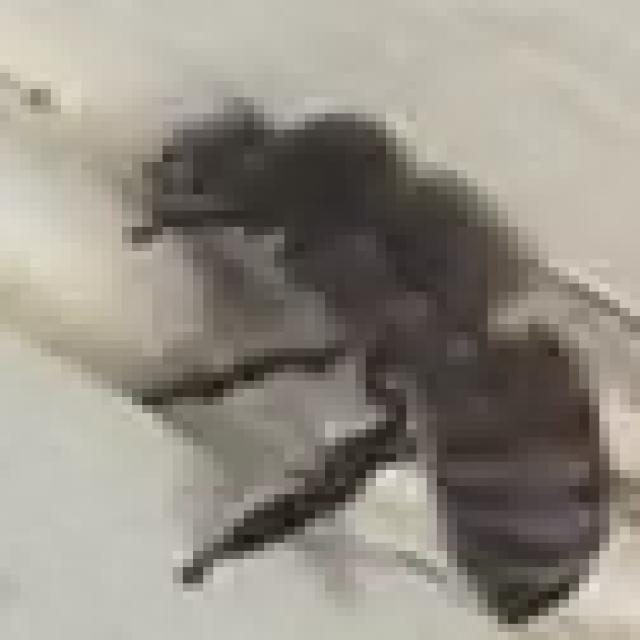honeybee: (104, 105, 598, 616)
